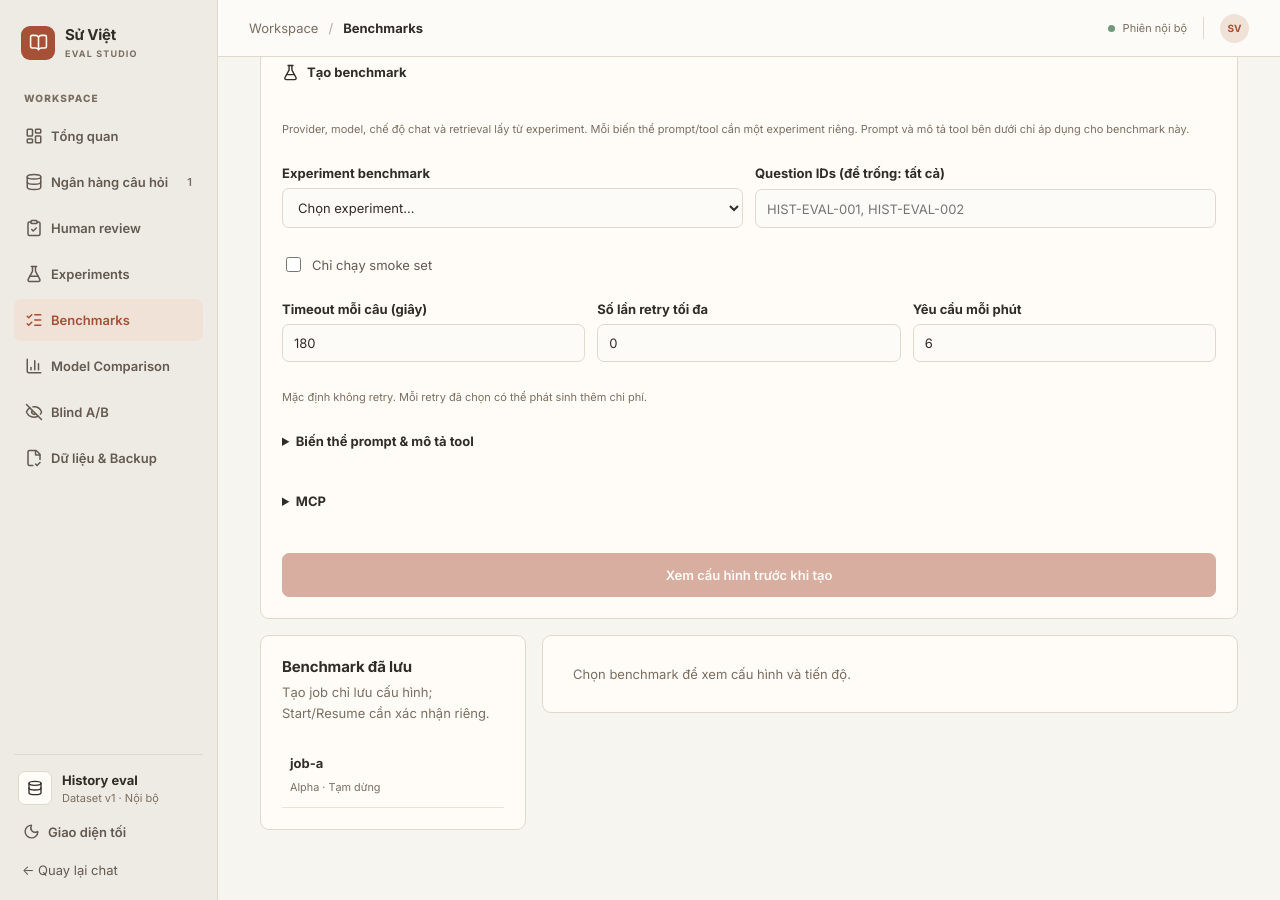
Test case: paused benchmark resume is explicit and cancel displays durable status
(page scrolled)
Click the button "job-a Alpha · Tạm dừng" at (393, 775), box [282, 742, 504, 808]
(page scrolled)
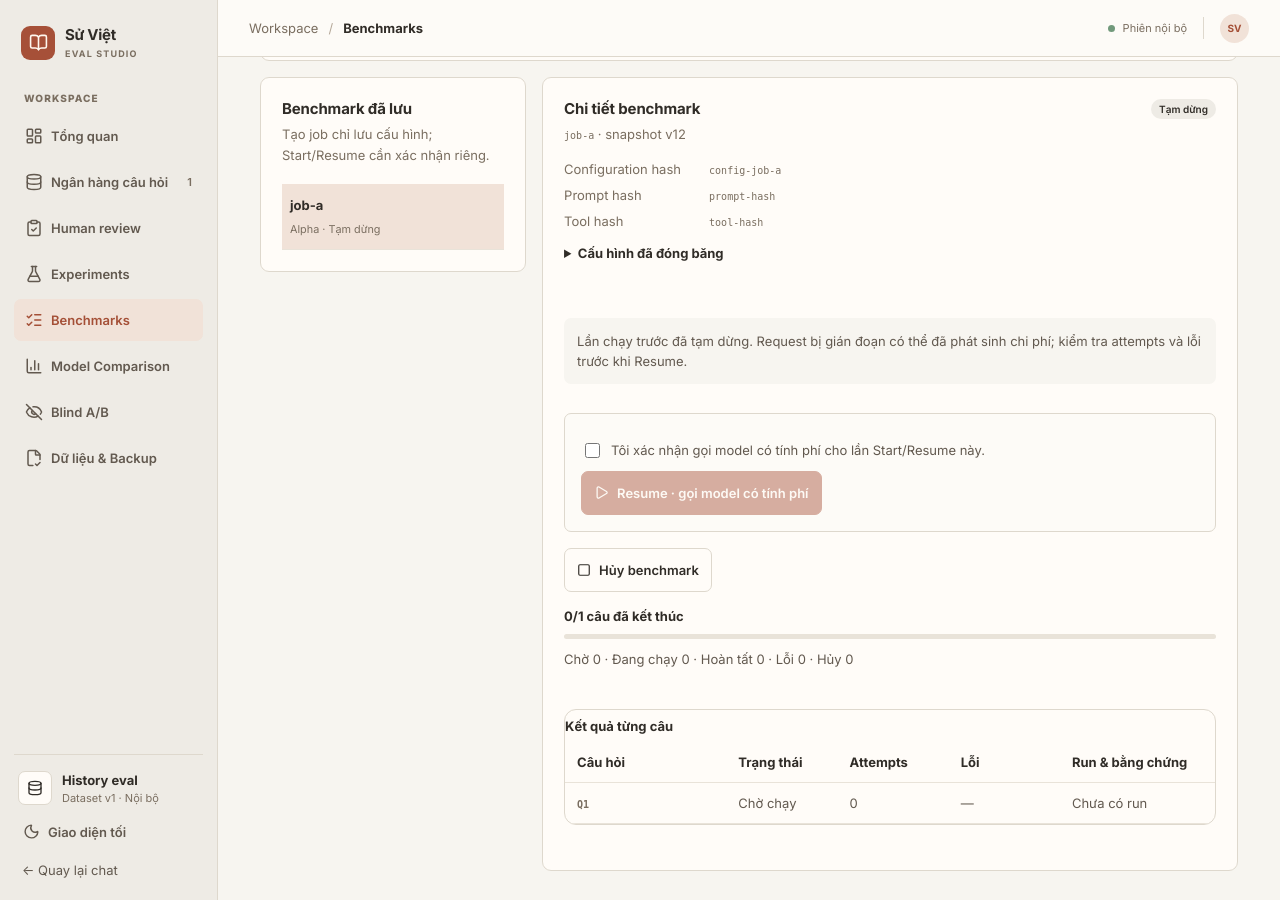
Check: the text "config-job-a" is shown, box [709, 165, 781, 176]
Check: the button "Resume · gọi model có tính phí" is disabled, box [581, 471, 822, 515]
Click the checkbox labelled "Tôi xác nhận gọi model có tính phí cho lần Start/Resume này." at (593, 450), box [585, 443, 600, 458]
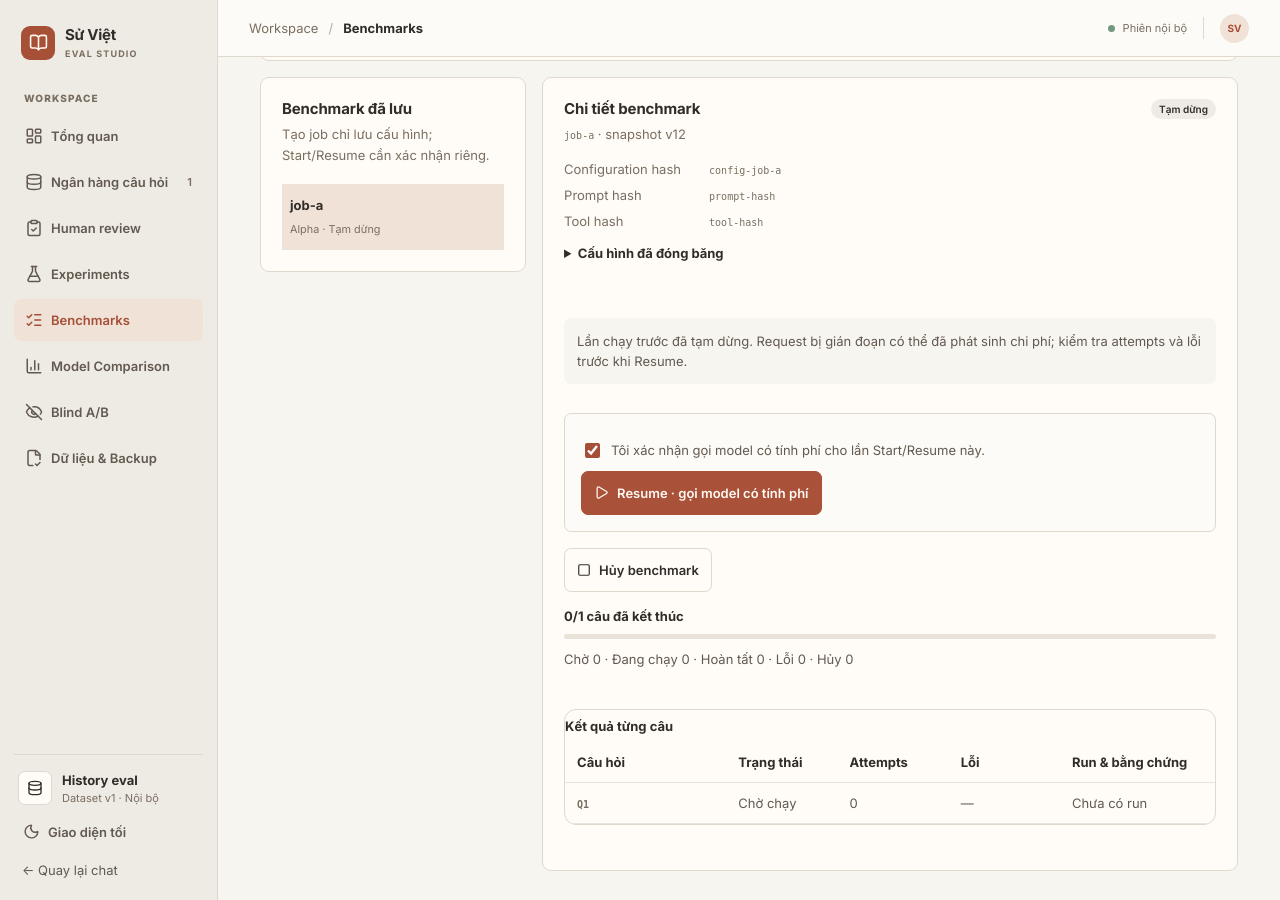
Click the button "Resume · gọi model có tính phí" at (701, 493), box [581, 471, 822, 515]
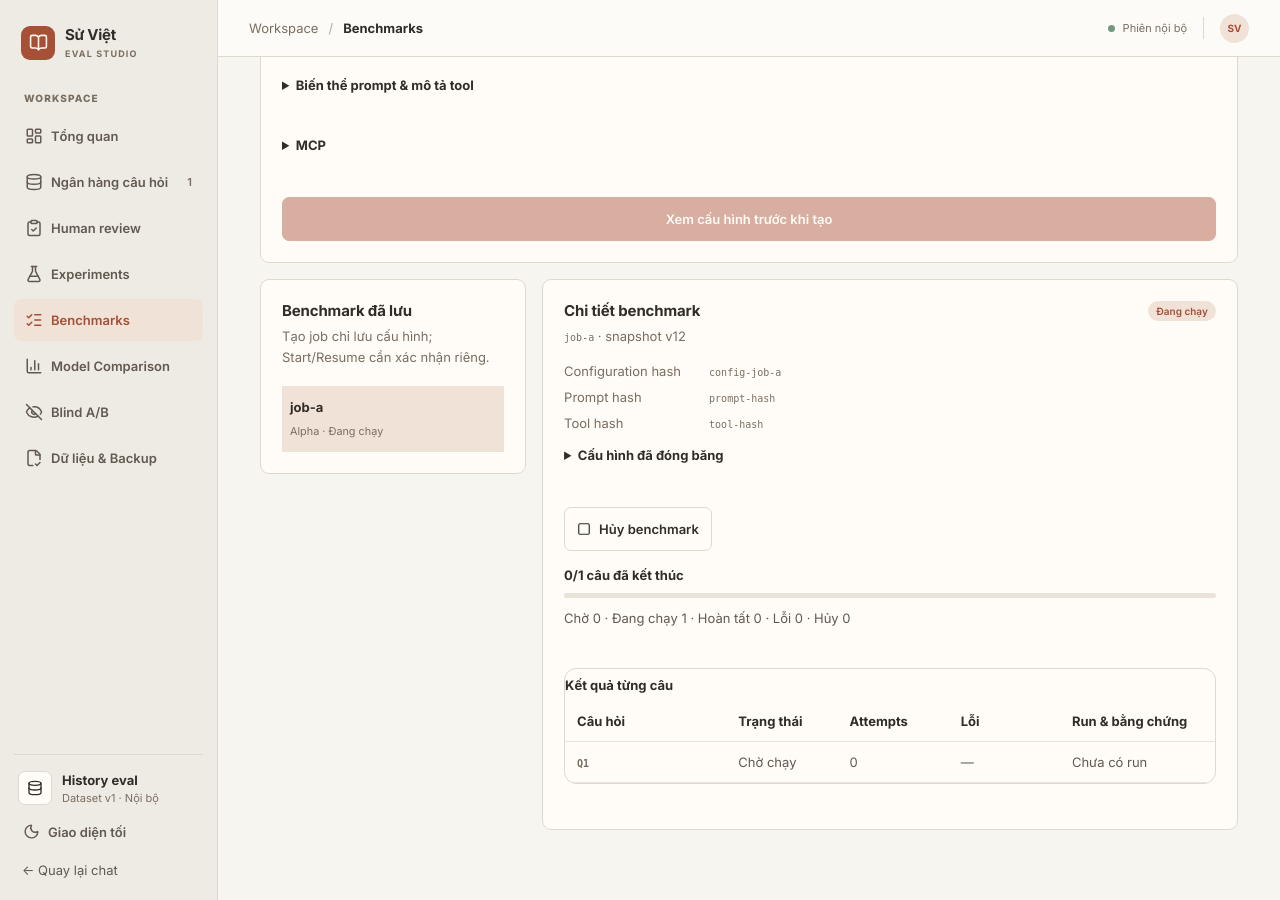
Check: the text "Đang chạy" is shown, box [1148, 301, 1216, 321]
Click the button "Hủy benchmark" at (638, 529), box [564, 507, 712, 551]
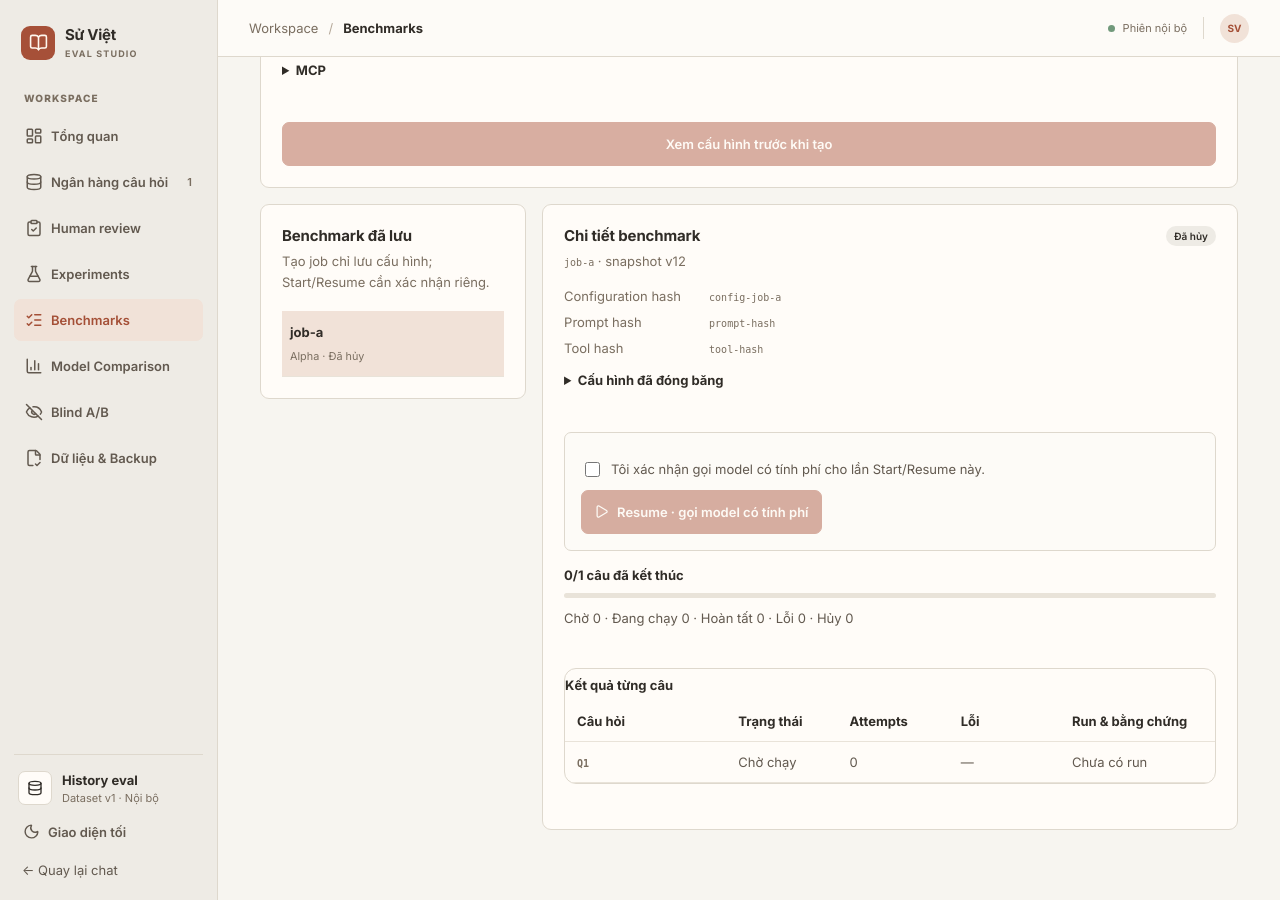
Check: the text "Đã hủy" is shown, box [1166, 226, 1216, 246]
